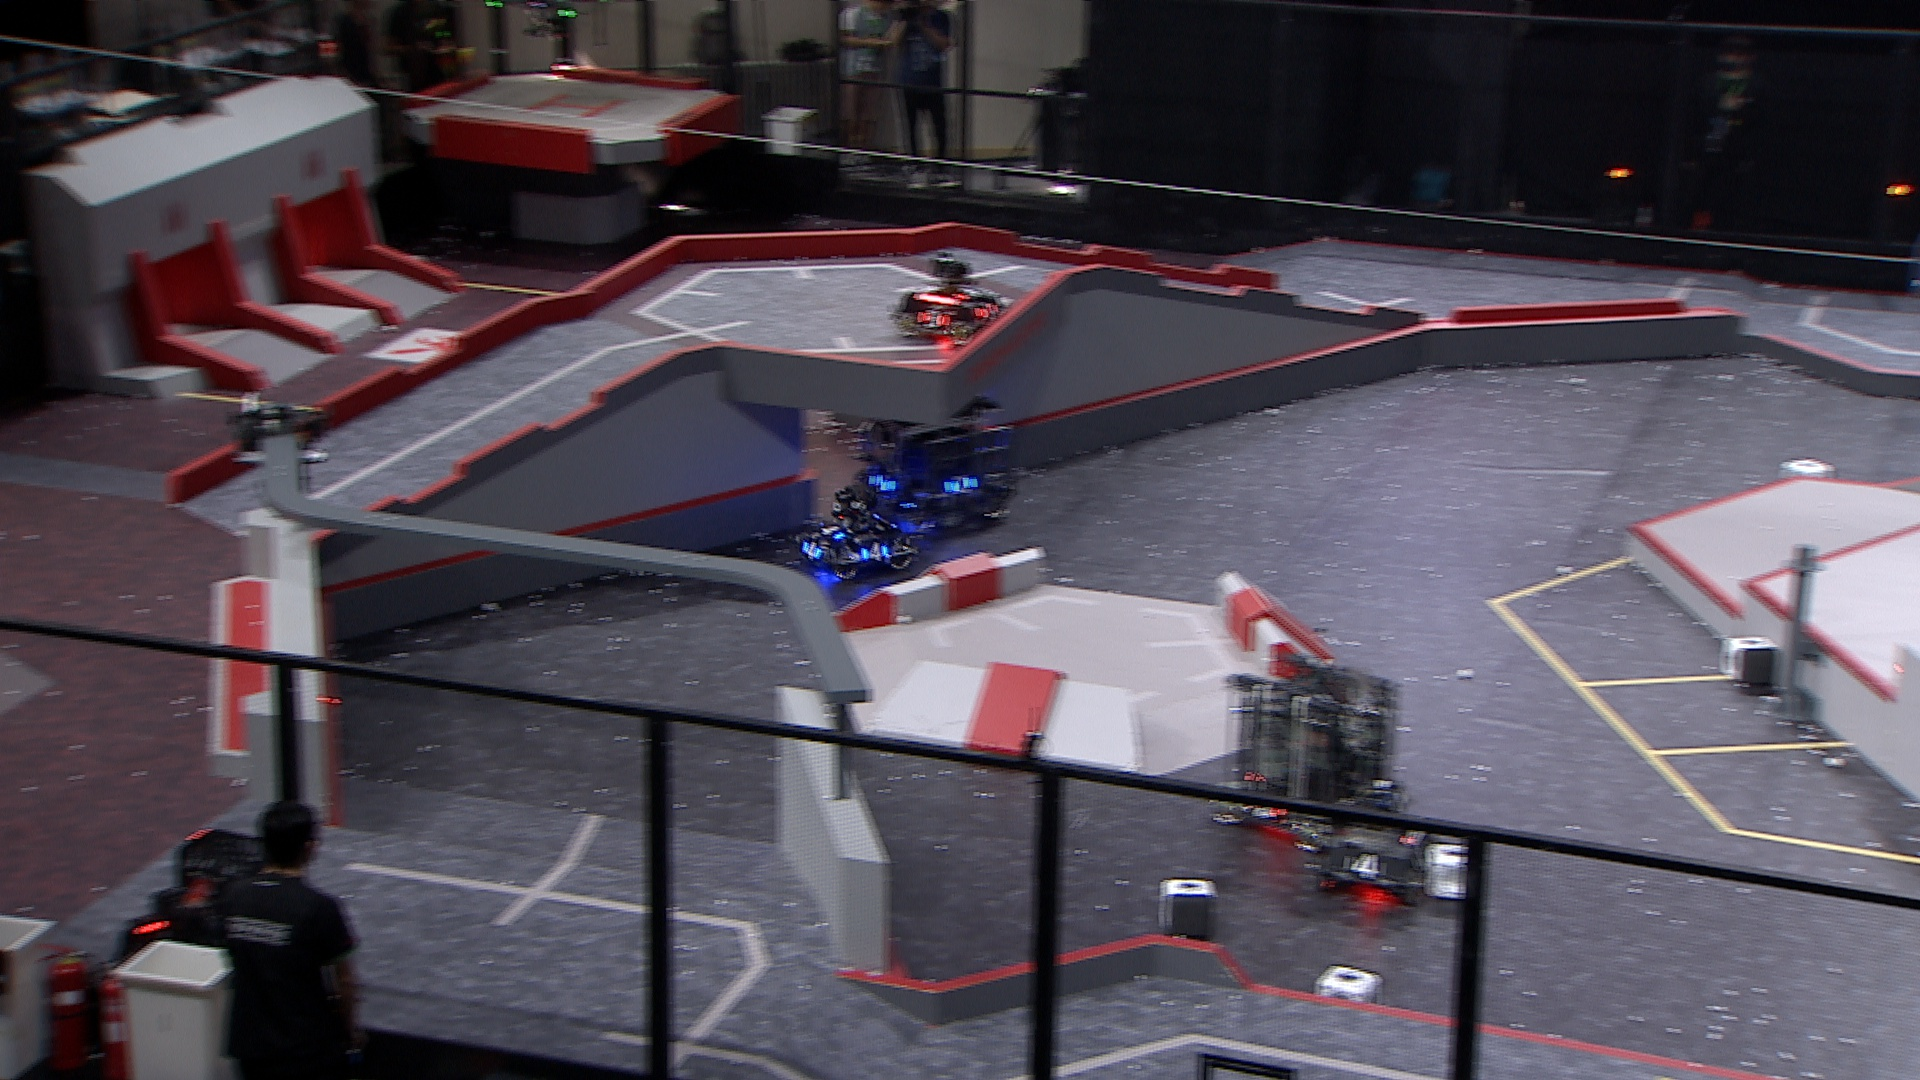armor: (1346, 851, 1387, 880), (1250, 796, 1283, 820), (816, 520, 847, 542), (866, 471, 895, 489), (949, 473, 973, 495), (956, 285, 984, 301), (916, 310, 945, 324), (800, 541, 820, 562), (862, 545, 887, 560), (978, 305, 1001, 320)
car: (1207, 651, 1404, 855), (113, 823, 301, 1000), (855, 384, 1021, 546), (1305, 774, 1429, 902), (793, 481, 918, 584), (891, 253, 1007, 348)
watcher: (224, 386, 328, 502)
